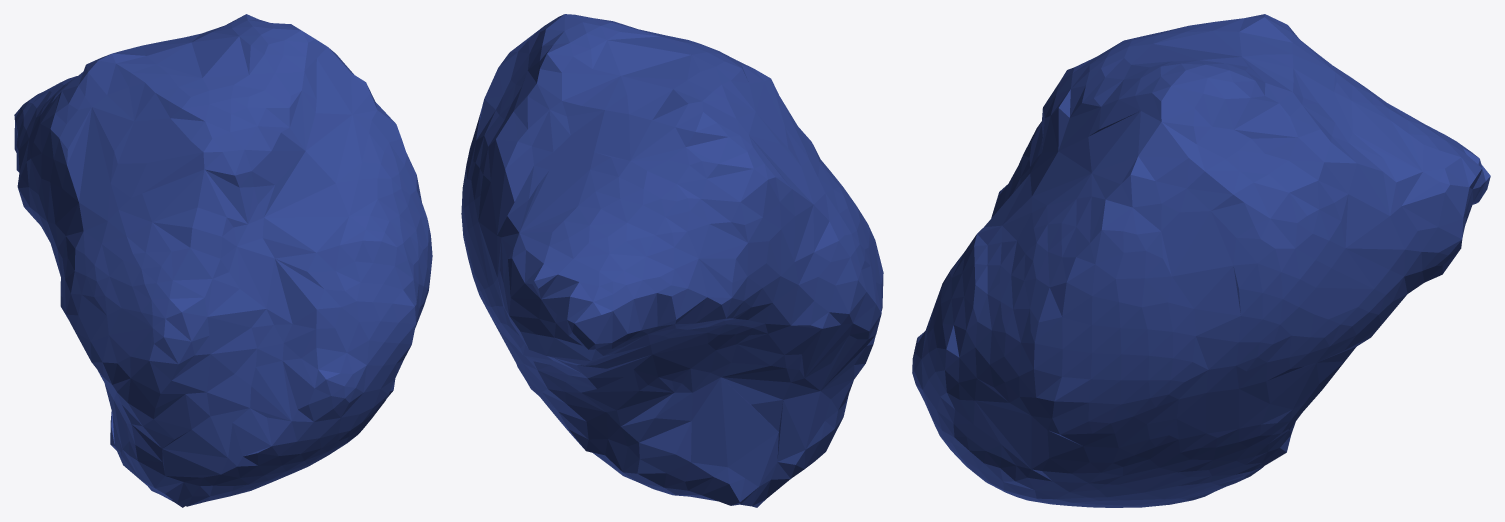
File: Model_10265_LH__Laterodorsal_thalamic_nucleus_(LD).obj
3 renders of one model, left to right at view 1: azimuth 30°, elevation 25°; view 2: azimuth 150°, elevation 25°; view 3: azimuth 270°, elevation 25°, orthographic. The views are drawn at different scales.
Bounding box in the file's own units: 1.51 × 1.85 × 1.94.
